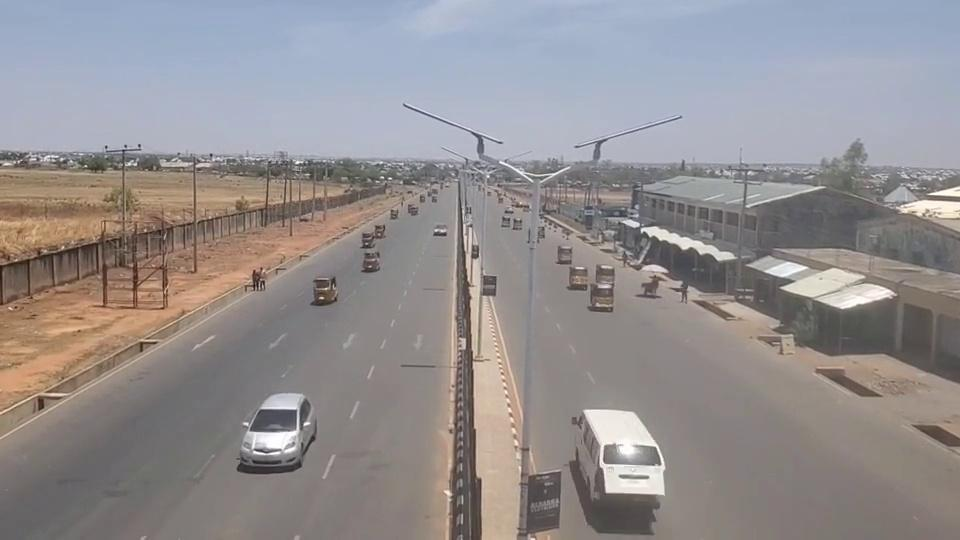bus: (574, 408, 665, 506)
car: (239, 391, 315, 467)
keke: (312, 275, 338, 304), (589, 283, 615, 311), (568, 265, 589, 289), (595, 264, 615, 286), (361, 250, 380, 271), (557, 245, 573, 263), (361, 230, 376, 247)
